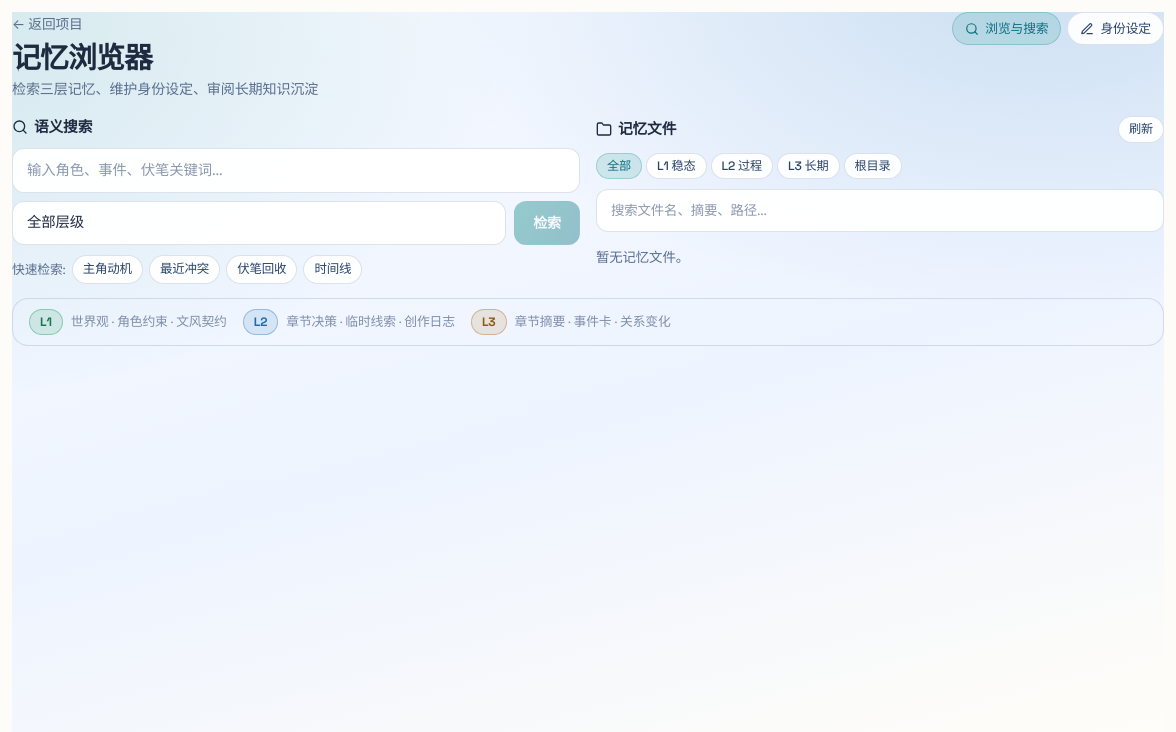
Test: MemoryBrowserPage › expands result on click to show source path and actions
In the field with placeholder "输入角色、事件、伏笔关键词...": {"x": 296, "y": 171} [12,148,580,193], type "冰霜"
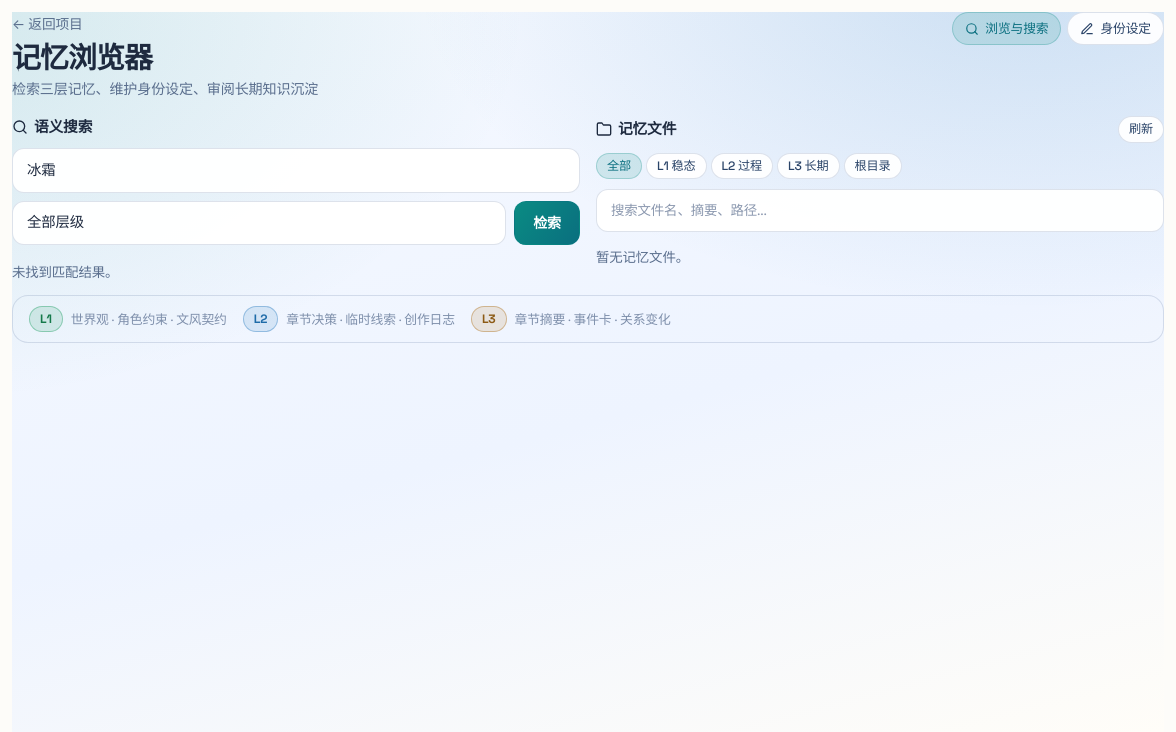
Click the button "检索": {"x": 547, "y": 223} [514,201,580,245]
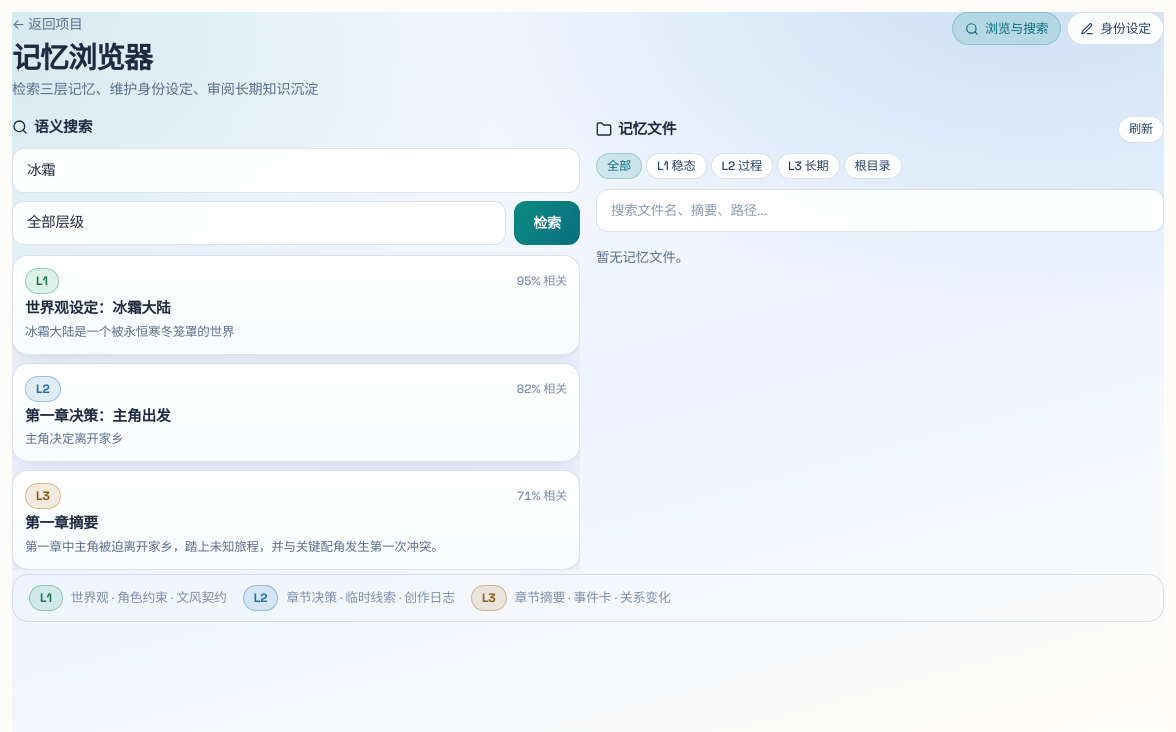
Check: the heading "世界观设定：冰霜大陆" is shown
Click the heading "世界观设定：冰霜大陆": {"x": 98, "y": 308} [25,299,171,317]
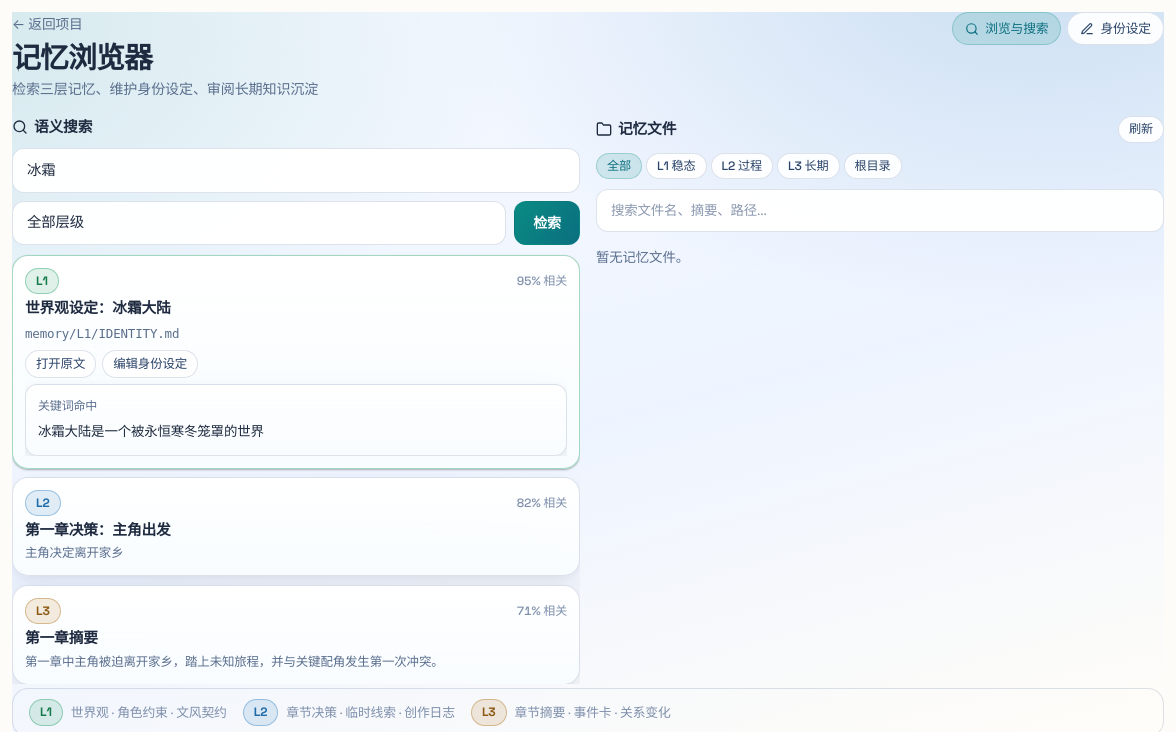
Check: the text "memory/L1/IDENTITY.md" is shown, box [25,326,179,341]
Check: the link "打开原文" is shown, box [25,350,96,378]
